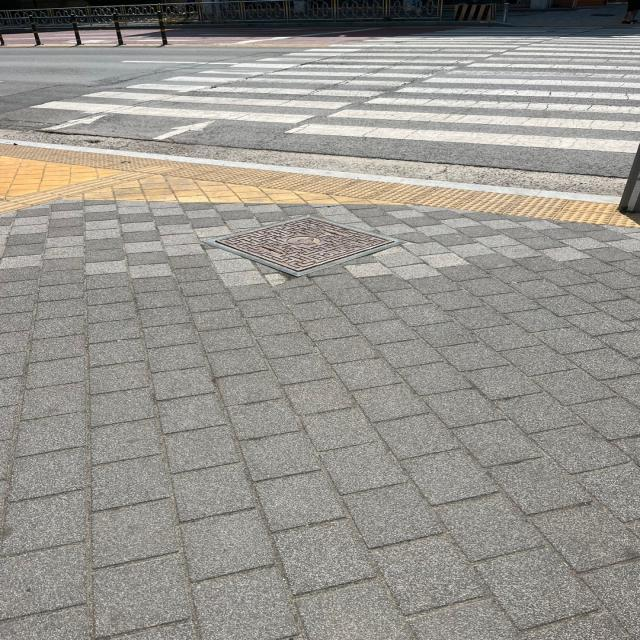Sewer Cover: (187, 204, 391, 287)
